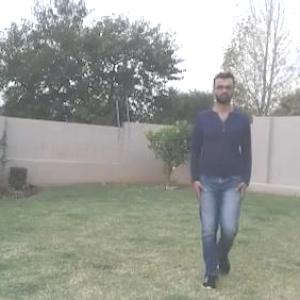follow: (190, 86, 248, 265)
